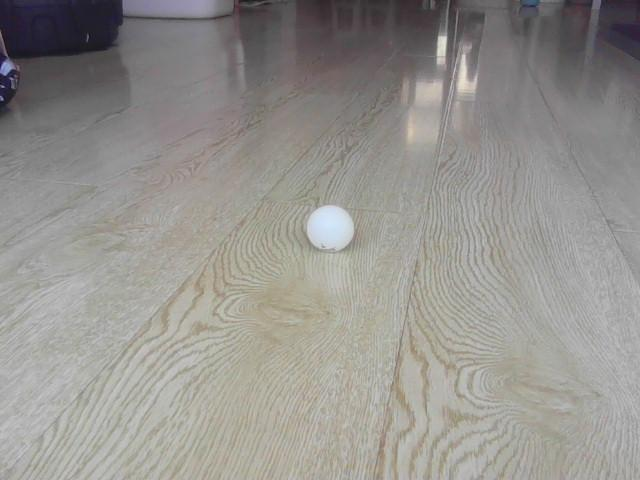ball: (308, 206, 354, 251)
